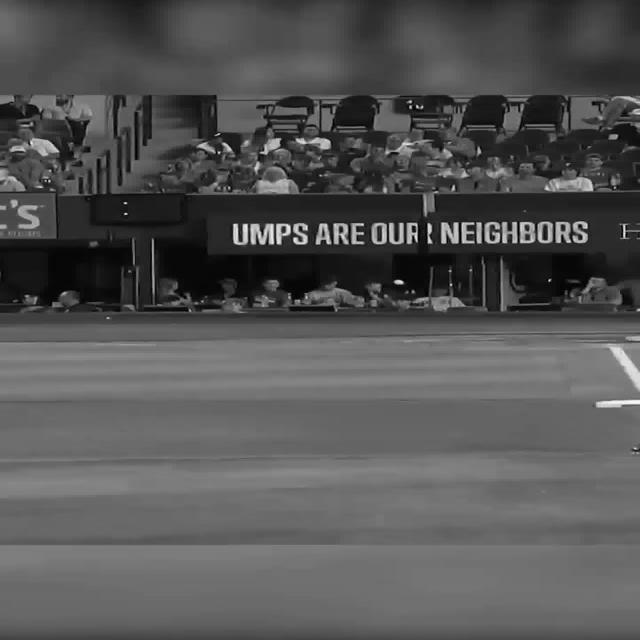base: (597, 399, 640, 408)
baseball: (393, 279, 405, 285)
